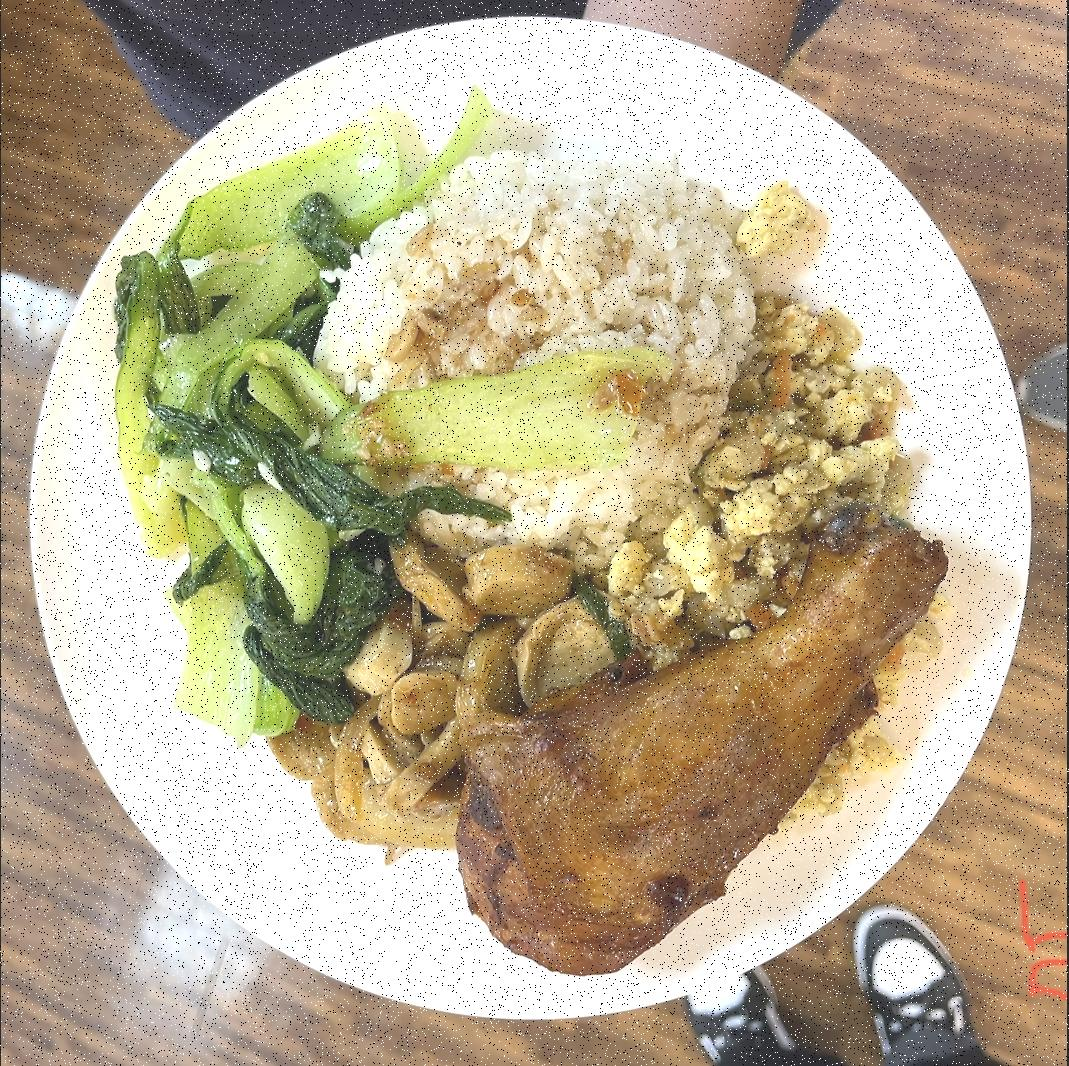plate: (22, 12, 1036, 1030)
side dish: (610, 182, 917, 815), (100, 118, 384, 729), (272, 545, 602, 847)
small grilled chicken leg: (444, 511, 946, 987)
white rice: (312, 143, 752, 556)
